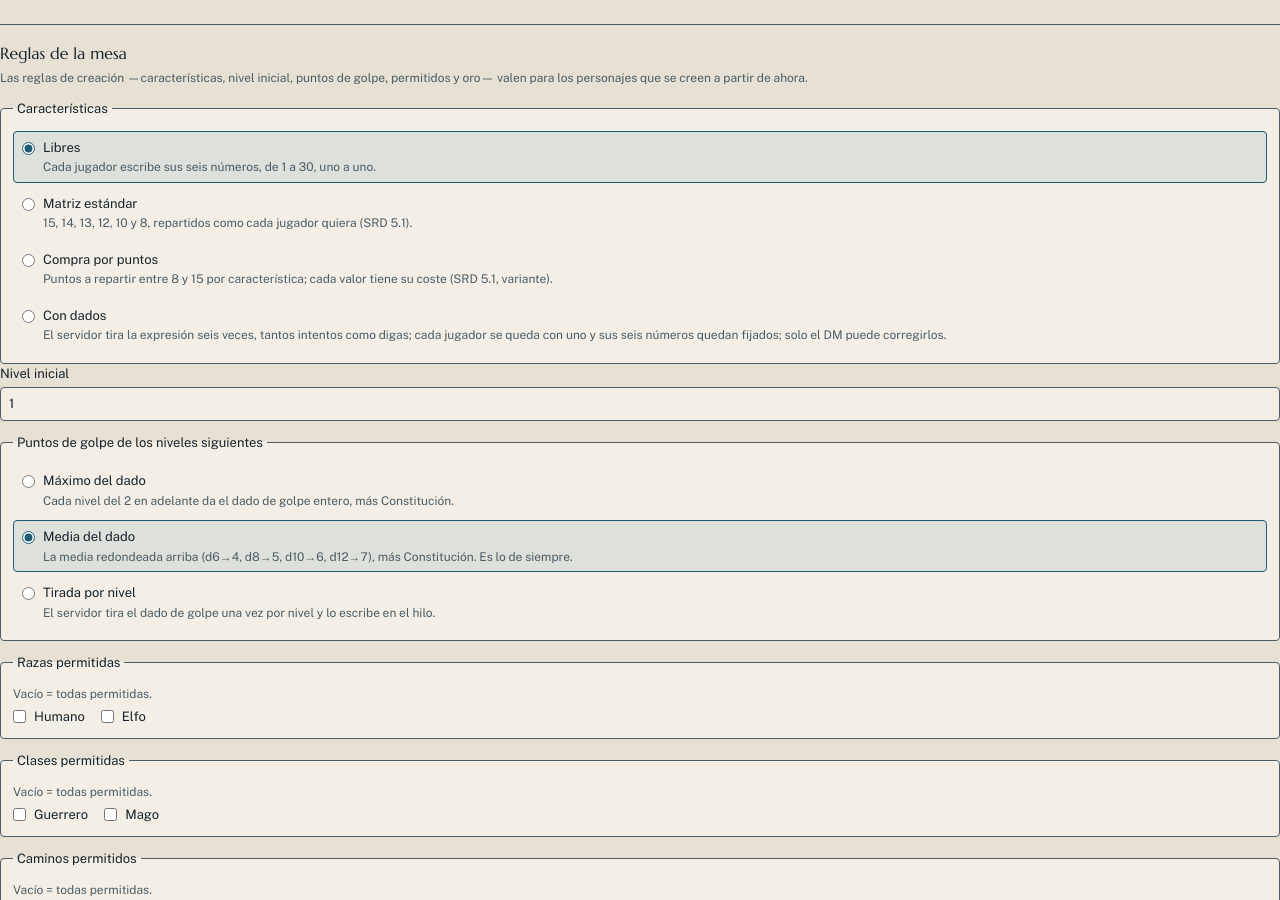
Test: ReglasDeLaMesa › con dados enseña expresión, intentos y la casilla de asignación; con oro fijo, la cantidad
Click the radio button labelled "Con dados": (28, 316) [22,310,35,322]
(page scrolled)
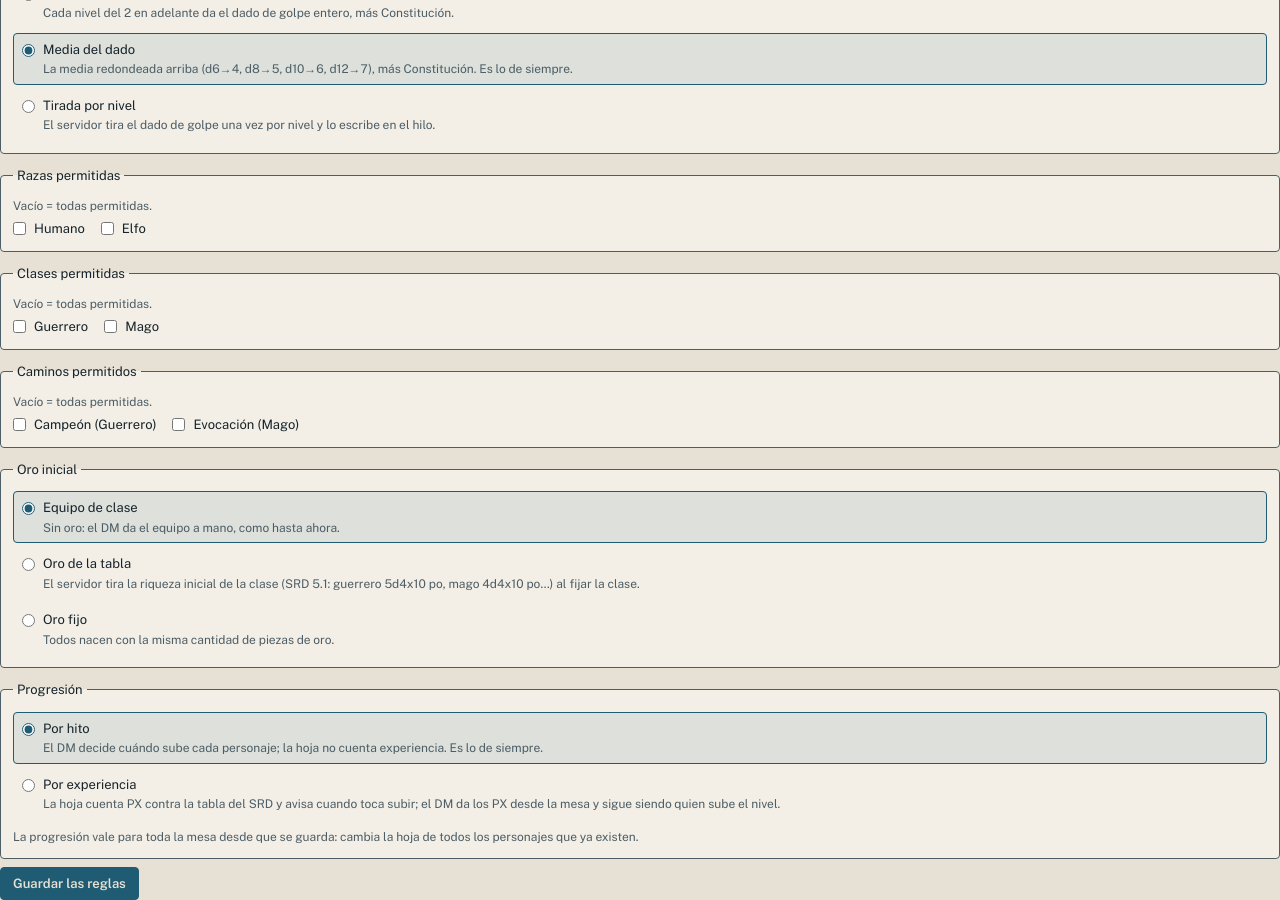
Click the radio button labelled "Oro fijo Todos nacen con la misma cantidad de piezas de oro.": (28, 620) [22,614,35,627]
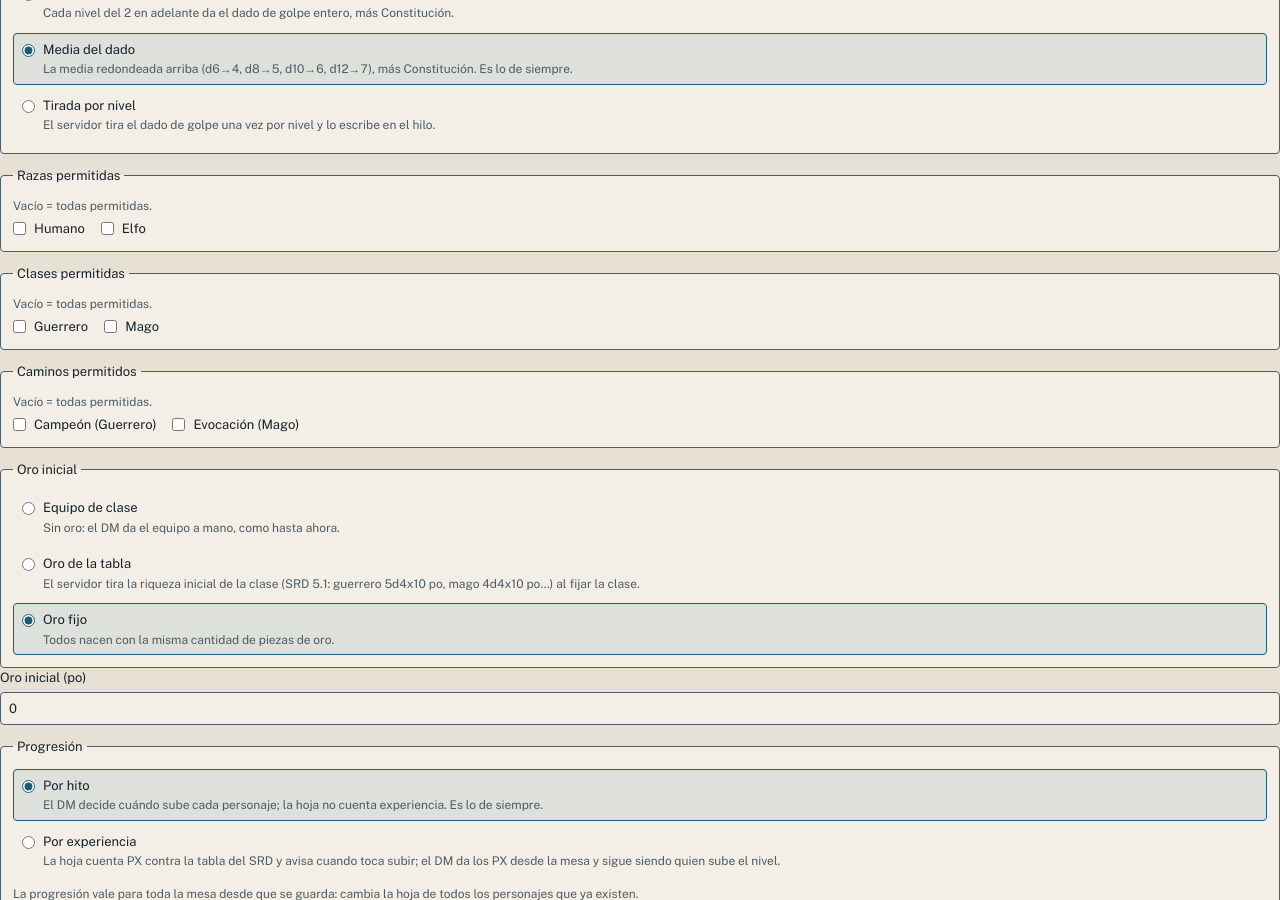
expect the number field labelled "Oro inicial (po)" is shown: met, box [0,692,1279,725]
